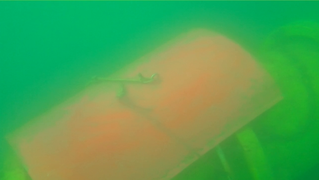leak: (6, 26, 284, 180)
pipe: (171, 19, 318, 180), (1, 151, 34, 180)
